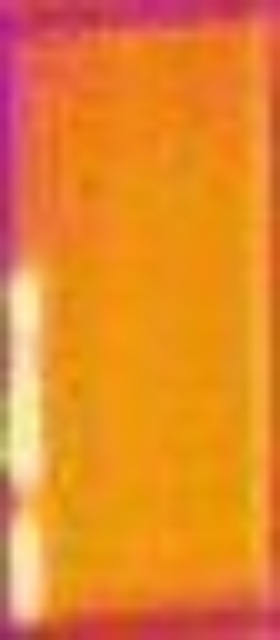Diode: (1, 264, 56, 625)
